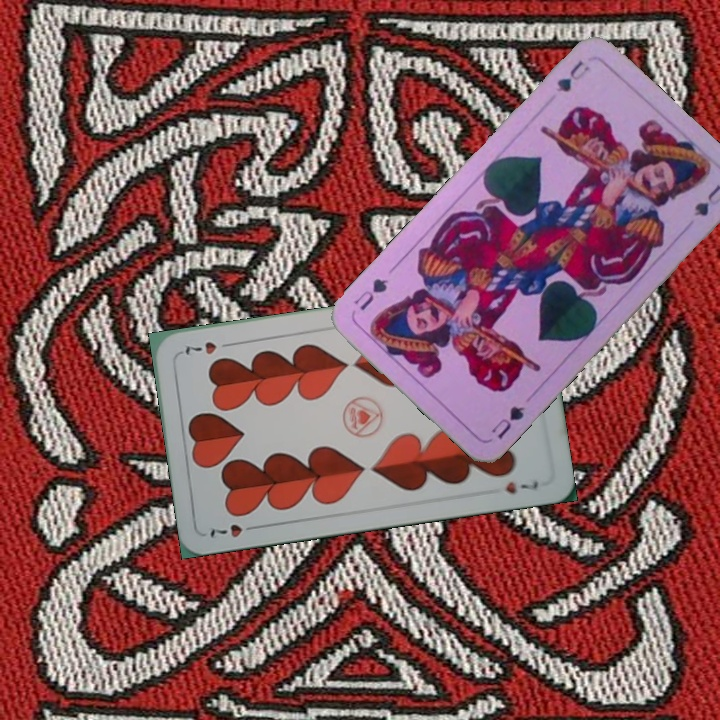GU: (487, 402, 528, 442), (552, 56, 592, 95)
H7: (206, 520, 262, 541)
